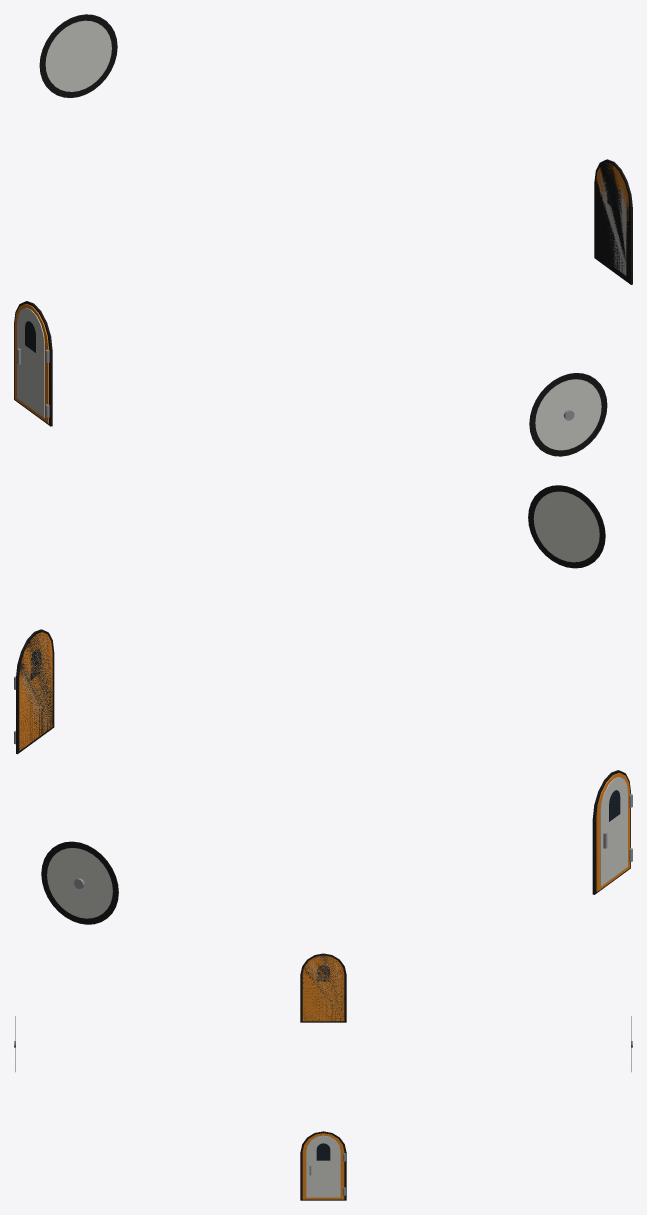
The model's file is bunk500_hatches.obj.
The picture shows the model from 3 angles, top to bottom: view 1: azimuth 30°, elevation 25°; view 2: azimuth 150°, elevation 25°; view 3: azimuth 270°, elevation 25°; orthographic projection. The views are drawn at different scales.
Parts seen in each view (by area): view 1: bunk500_hatches; view 2: bunk500_hatches; view 3: bunk500_hatches.
Boxes of the visible parts, box(x1,y1,x2,y2) form: bunk500_hatches: box(14, 14, 632, 456); bunk500_hatches: box(14, 485, 632, 924); bunk500_hatches: box(14, 953, 632, 1200).
Size of the model in its own units: 12.45 by 2.97 by 18.
